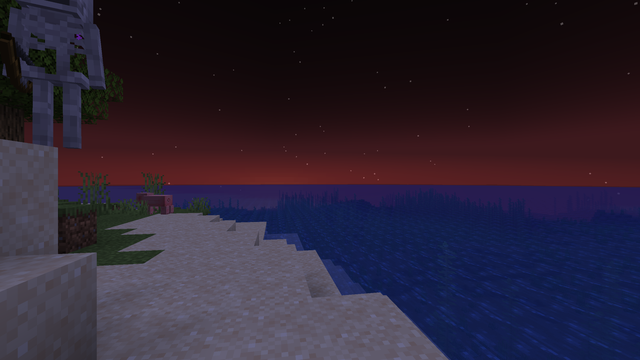cochons: (143, 194, 171, 214)
squelettes: (0, 1, 103, 150)
